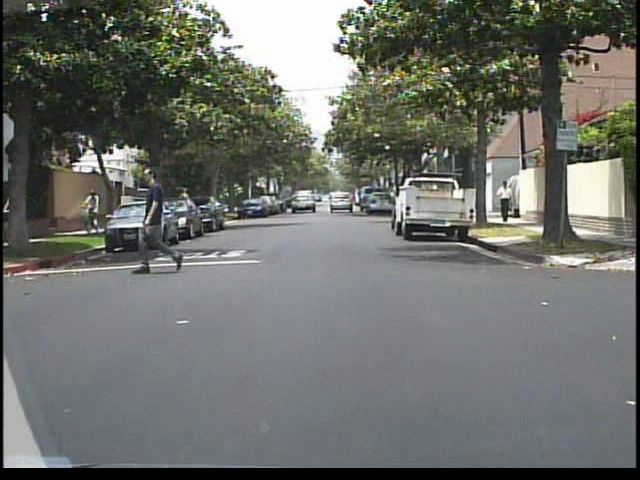person: (132, 162, 190, 277), (496, 176, 518, 227), (80, 187, 104, 233), (176, 184, 195, 223)
